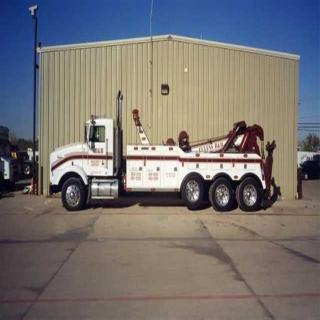Towing_truck: (48, 89, 279, 214)
